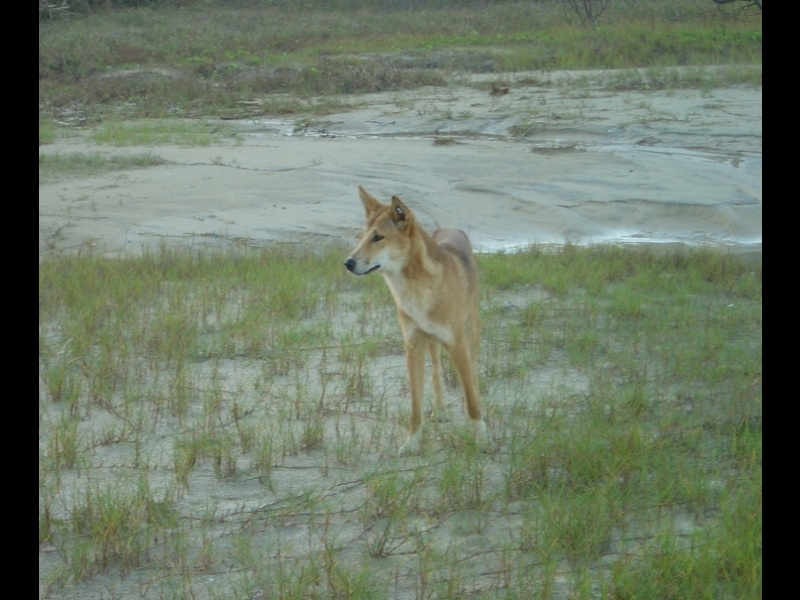dog: (338, 180, 500, 471)
